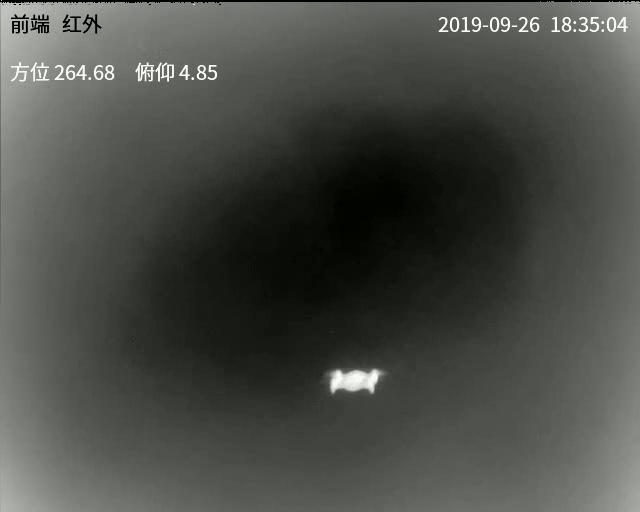DRONE: (328, 369, 381, 393)
